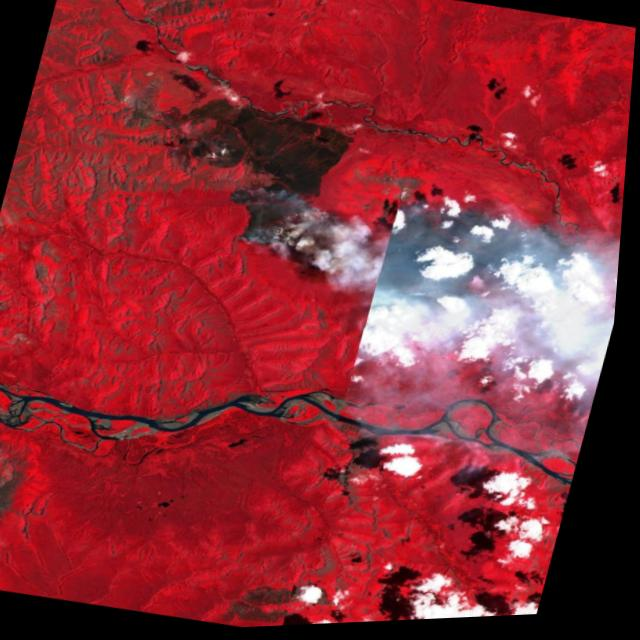fire: (202, 166, 355, 268), (404, 178, 588, 257)
